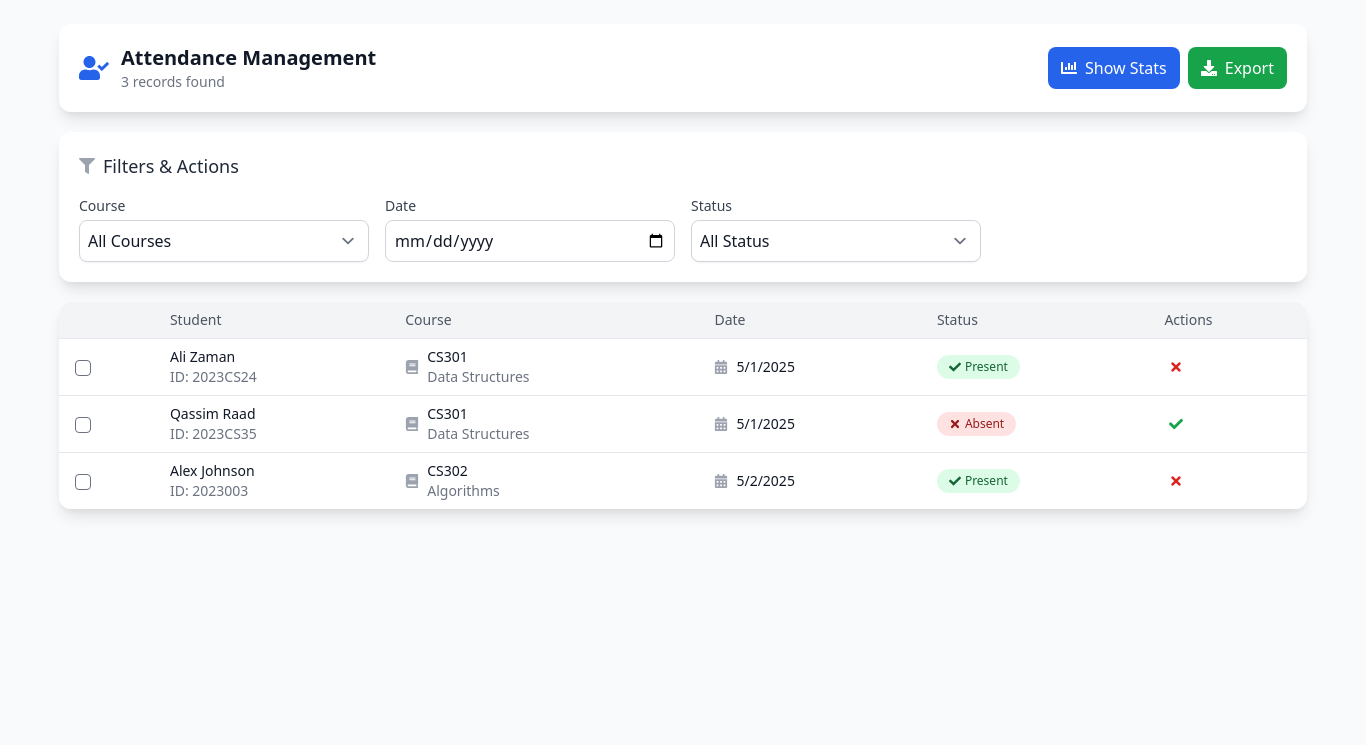
Test: AttendanceList › shows per-course stats when expanded
This screenshot has width=1366, height=745.
Click the button "Show Stats" at (1114, 68), box 1048,47 -> 1180,89
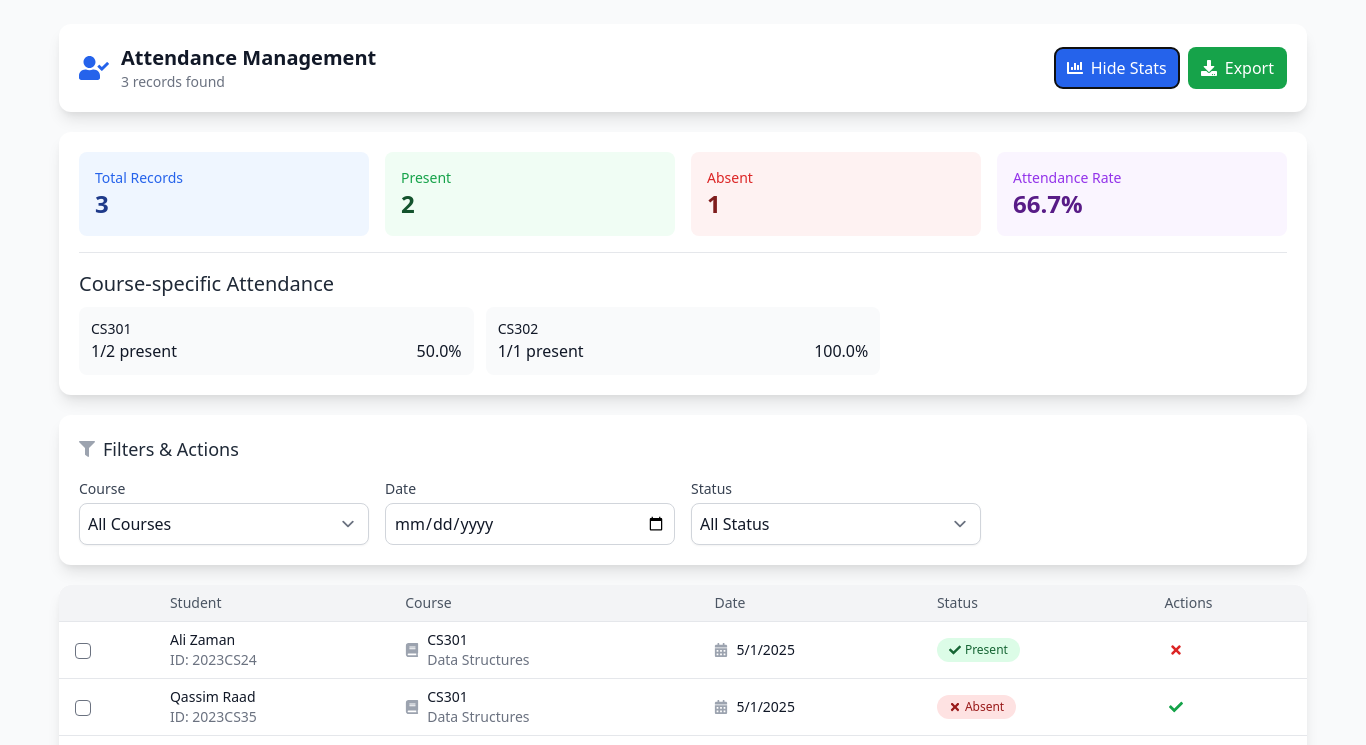
Now the text "CS301" below "Course-specific Attendance" is shown, box 91,319 -> 132,338
